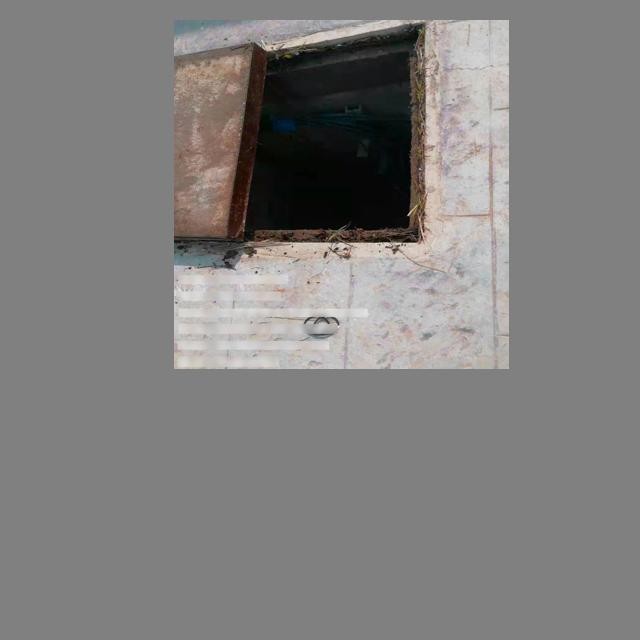uncovered: (177, 20, 422, 243)
